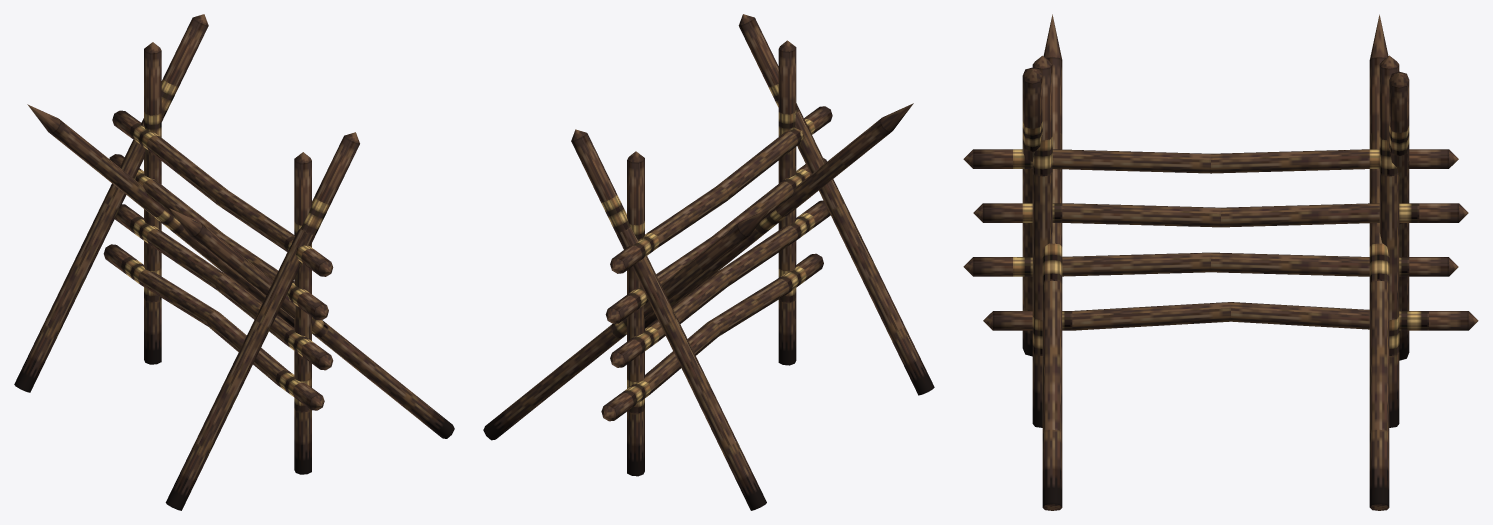
Rendered from ObjMD_Battlefield_Fence_B.FBX.
The picture shows the model from 3 angles, left to right: view 1: azimuth 30°, elevation 25°; view 2: azimuth 150°, elevation 25°; view 3: azimuth 270°, elevation 25°; orthographic projection. The views are drawn at different scales.
Parts seen in each view (by area): view 1: ObjMD_Battlefield_Fence_B; view 2: ObjMD_Battlefield_Fence_B; view 3: ObjMD_Battlefield_Fence_B.
Part boxes in pixels (bbox=[...]): ObjMD_Battlefield_Fence_B: bbox=[14, 14, 454, 510]; ObjMD_Battlefield_Fence_B: bbox=[483, 14, 934, 510]; ObjMD_Battlefield_Fence_B: bbox=[963, 14, 1478, 510].
Size of the model in its own units: 247 by 270 by 325.
